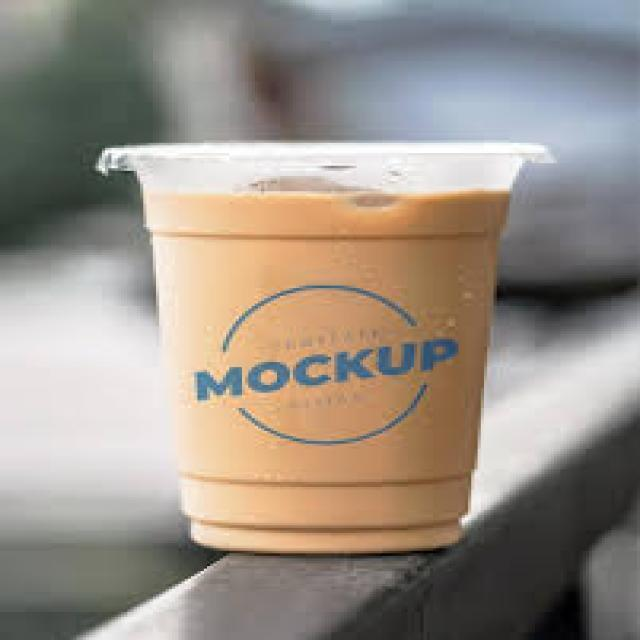cup: (98, 143, 552, 553)
